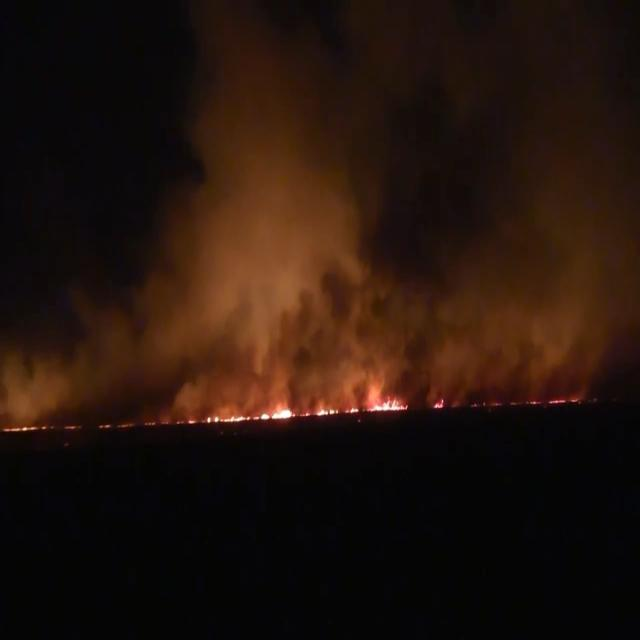Fire: (204, 388, 448, 416)
